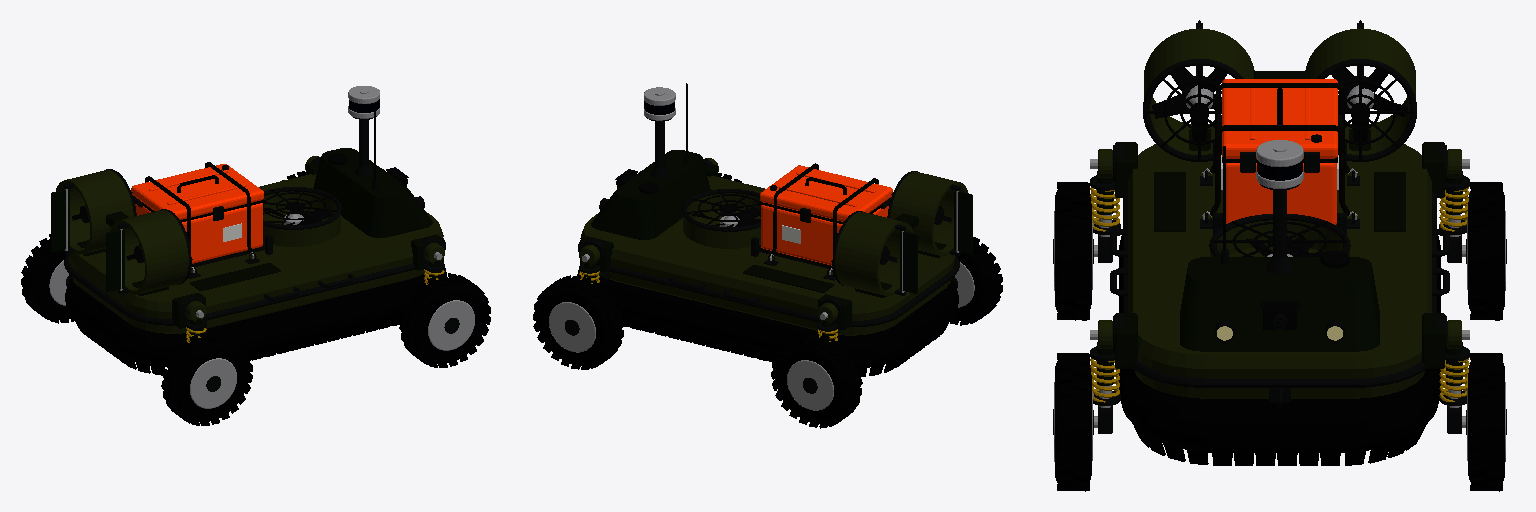
URDF robot description (hovercraft):
<?xml version="1.0"?>
<!-- GENERATED by gen_description.py from link_frames.json. Do not edit by hand. -->
<robot name="hovercraft">
  <link name="base_link"><inertial><origin xyz="0.0891683 0 -0.03" rpy="0 0 0"/><mass value="10.52"/><inertia ixx="0.372057" ixy="0" ixz="0" iyy="1.09583" iyz="0" izz="1.39776"/></inertial><visual><geometry><mesh filename="package://tidal_vehicle_description/models/hovercraft/meshes/hull.dae"/></geometry></visual><collision><origin xyz="0 0 -0.005" rpy="0 0 0"/><geometry><box size="1.15 0.66 0.15"/></geometry></collision></link>
  <link name="skirt"><inertial><origin xyz="0 0 0.0125" rpy="0 0 0"/><mass value="1.5"/><inertia ixx="0.0626281" ixy="0" ixz="0" iyy="0.181378" iyz="0" izz="0.24125"/></inertial><visual><geometry><mesh filename="package://tidal_vehicle_description/models/hovercraft/meshes/skirt.dae"/></geometry></visual><collision><origin xyz="0 0 0.0125" rpy="0 0 0"/><geometry><box size="1.2 0.7 0.105"/></geometry></collision></link>
  <link name="lift_fan"><inertial><origin xyz="0 0 0" rpy="0 0 0"/><mass value="0.8"/><inertia ixx="0.003705" ixy="0" ixz="0" iyy="0.003705" iyz="0" izz="0.00729"/></inertial><visual><geometry><mesh filename="package://tidal_vehicle_description/models/hovercraft/meshes/lift_fan.dae"/></geometry></visual><collision><origin xyz="0 0 0" rpy="0 0 0"/><geometry><cylinder radius="0.135" length="0.03"/></geometry></collision></link>
  <link name="thrust_fan_left"><inertial><origin xyz="0 0 0" rpy="0 0 0"/><mass value="0.5"/><inertia ixx="0.00275625" ixy="0" ixz="0" iyy="0.00141562" iyz="0" izz="0.00141562"/></inertial><visual><geometry><mesh filename="package://tidal_vehicle_description/models/hovercraft/meshes/thrust_fan_left.dae"/></geometry></visual><collision><origin xyz="0 0 0" rpy="0 1.5708 0"/><geometry><cylinder radius="0.105" length="0.03"/></geometry></collision></link>
  <link name="thrust_fan_right"><inertial><origin xyz="0 0 0" rpy="0 0 0"/><mass value="0.5"/><inertia ixx="0.00275625" ixy="0" ixz="0" iyy="0.00141562" iyz="0" izz="0.00141562"/></inertial><visual><geometry><mesh filename="package://tidal_vehicle_description/models/hovercraft/meshes/thrust_fan_right.dae"/></geometry></visual><collision><origin xyz="0 0 0" rpy="0 1.5708 0"/><geometry><cylinder radius="0.105" length="0.03"/></geometry></collision></link>
  <link name="rudder_left"><inertial><origin xyz="-0.0215 0 0" rpy="0 0 0"/><mass value="0.1"/><inertia ixx="0.000368033" ixy="0" ixz="0" iyy="0.000404908" iyz="0" izz="3.79417e-05"/></inertial><visual><geometry><mesh filename="package://tidal_vehicle_description/models/hovercraft/meshes/rudder_left.dae"/></geometry></visual><collision><origin xyz="-0.0215 0 0" rpy="0 0 0"/><geometry><box size="0.067 0.008 0.21"/></geometry></collision></link>
  <link name="rudder_right"><inertial><origin xyz="-0.0215 0 0" rpy="0 0 0"/><mass value="0.1"/><inertia ixx="0.000368033" ixy="0" ixz="0" iyy="0.000404908" iyz="0" izz="3.79417e-05"/></inertial><visual><geometry><mesh filename="package://tidal_vehicle_description/models/hovercraft/meshes/rudder_right.dae"/></geometry></visual><collision><origin xyz="-0.0215 0 0" rpy="0 0 0"/><geometry><box size="0.067 0.008 0.21"/></geometry></collision></link>
  <link name="wheel_leg_fl"><inertial><origin xyz="0 0 -0.0675" rpy="0 0 0"/><mass value="0.4"/><inertia ixx="0.000336933" ixy="0" ixz="0" iyy="0.000336933" iyz="0" izz="7.22e-05"/></inertial><visual><geometry><mesh filename="package://tidal_vehicle_description/models/hovercraft/meshes/wheel_leg_fl.dae"/></geometry></visual><collision><origin xyz="0 0 -0.0675" rpy="0 0 0"/><geometry><cylinder radius="0.019" length="0.09499999999999997"/></geometry></collision></link>
  <link name="wheel_leg_fr"><inertial><origin xyz="0 0 -0.0675" rpy="0 0 0"/><mass value="0.4"/><inertia ixx="0.000336933" ixy="0" ixz="0" iyy="0.000336933" iyz="0" izz="7.22e-05"/></inertial><visual><geometry><mesh filename="package://tidal_vehicle_description/models/hovercraft/meshes/wheel_leg_fr.dae"/></geometry></visual><collision><origin xyz="0 0 -0.0675" rpy="0 0 0"/><geometry><cylinder radius="0.019" length="0.09499999999999997"/></geometry></collision></link>
  <link name="wheel_leg_rl"><inertial><origin xyz="0 0 -0.0675" rpy="0 0 0"/><mass value="0.4"/><inertia ixx="0.000336933" ixy="0" ixz="0" iyy="0.000336933" iyz="0" izz="7.22e-05"/></inertial><visual><geometry><mesh filename="package://tidal_vehicle_description/models/hovercraft/meshes/wheel_leg_rl.dae"/></geometry></visual><collision><origin xyz="0 0 -0.0675" rpy="0 0 0"/><geometry><cylinder radius="0.019" length="0.09499999999999997"/></geometry></collision></link>
  <link name="wheel_leg_rr"><inertial><origin xyz="0 0 -0.0675" rpy="0 0 0"/><mass value="0.4"/><inertia ixx="0.000336933" ixy="0" ixz="0" iyy="0.000336933" iyz="0" izz="7.22e-05"/></inertial><visual><geometry><mesh filename="package://tidal_vehicle_description/models/hovercraft/meshes/wheel_leg_rr.dae"/></geometry></visual><collision><origin xyz="0 0 -0.0675" rpy="0 0 0"/><geometry><cylinder radius="0.019" length="0.09499999999999997"/></geometry></collision></link>
  <link name="wheel_shock_fl"><inertial><origin xyz="0 0 0.08" rpy="0 0 0"/><mass value="0.2"/><inertia ixx="0.000436467" ixy="0" ixz="0" iyy="0.000436467" iyz="0" izz="1.96e-05"/></inertial><visual><geometry><mesh filename="package://tidal_vehicle_description/models/hovercraft/meshes/wheel_shock_fl.dae"/></geometry></visual><collision><origin xyz="0 0 0.08" rpy="0 0 0"/><geometry><cylinder radius="0.014" length="0.16"/></geometry></collision></link>
  <link name="wheel_shock_fr"><inertial><origin xyz="0 0 0.08" rpy="0 0 0"/><mass value="0.2"/><inertia ixx="0.000436467" ixy="0" ixz="0" iyy="0.000436467" iyz="0" izz="1.96e-05"/></inertial><visual><geometry><mesh filename="package://tidal_vehicle_description/models/hovercraft/meshes/wheel_shock_fr.dae"/></geometry></visual><collision><origin xyz="0 0 0.08" rpy="0 0 0"/><geometry><cylinder radius="0.014" length="0.16"/></geometry></collision></link>
  <link name="wheel_shock_rl"><inertial><origin xyz="0 0 0.08" rpy="0 0 0"/><mass value="0.2"/><inertia ixx="0.000436467" ixy="0" ixz="0" iyy="0.000436467" iyz="0" izz="1.96e-05"/></inertial><visual><geometry><mesh filename="package://tidal_vehicle_description/models/hovercraft/meshes/wheel_shock_rl.dae"/></geometry></visual><collision><origin xyz="0 0 0.08" rpy="0 0 0"/><geometry><cylinder radius="0.014" length="0.16"/></geometry></collision></link>
  <link name="wheel_shock_rr"><inertial><origin xyz="0 0 0.08" rpy="0 0 0"/><mass value="0.2"/><inertia ixx="0.000436467" ixy="0" ixz="0" iyy="0.000436467" iyz="0" izz="1.96e-05"/></inertial><visual><geometry><mesh filename="package://tidal_vehicle_description/models/hovercraft/meshes/wheel_shock_rr.dae"/></geometry></visual><collision><origin xyz="0 0 0.08" rpy="0 0 0"/><geometry><cylinder radius="0.014" length="0.16"/></geometry></collision></link>
  <link name="wheel_fl"><inertial><origin xyz="0 0 0" rpy="0 0 0"/><mass value="0.9"/><inertia ixx="0.0055425" ixy="0" ixz="0" iyy="0.010125" iyz="0" izz="0.0055425"/></inertial><visual><geometry><mesh filename="package://tidal_vehicle_description/models/hovercraft/meshes/wheel_fl.dae"/></geometry></visual><collision><origin xyz="0 0 0" rpy="1.5708 0 0"/><geometry><cylinder radius="0.15" length="0.08"/></geometry></collision></link>
  <link name="wheel_fr"><inertial><origin xyz="0 0 0" rpy="0 0 0"/><mass value="0.9"/><inertia ixx="0.0055425" ixy="0" ixz="0" iyy="0.010125" iyz="0" izz="0.0055425"/></inertial><visual><geometry><mesh filename="package://tidal_vehicle_description/models/hovercraft/meshes/wheel_fr.dae"/></geometry></visual><collision><origin xyz="0 0 0" rpy="1.5708 0 0"/><geometry><cylinder radius="0.15" length="0.08"/></geometry></collision></link>
  <link name="wheel_rl"><inertial><origin xyz="0 0 0" rpy="0 0 0"/><mass value="0.9"/><inertia ixx="0.0055425" ixy="0" ixz="0" iyy="0.010125" iyz="0" izz="0.0055425"/></inertial><visual><geometry><mesh filename="package://tidal_vehicle_description/models/hovercraft/meshes/wheel_rl.dae"/></geometry></visual><collision><origin xyz="0 0 0" rpy="1.5708 0 0"/><geometry><cylinder radius="0.15" length="0.08"/></geometry></collision></link>
  <link name="wheel_rr"><inertial><origin xyz="0 0 0" rpy="0 0 0"/><mass value="0.9"/><inertia ixx="0.0055425" ixy="0" ixz="0" iyy="0.010125" iyz="0" izz="0.0055425"/></inertial><visual><geometry><mesh filename="package://tidal_vehicle_description/models/hovercraft/meshes/wheel_rr.dae"/></geometry></visual><collision><origin xyz="0 0 0" rpy="1.5708 0 0"/><geometry><cylinder radius="0.15" length="0.08"/></geometry></collision></link>
  <link name="payload_box"><inertial><origin xyz="0 0 0.1" rpy="0 0 0"/><mass value="4.0"/><inertia ixx="0.0341667" ixy="0" ixz="0" iyy="0.0541667" iyz="0" izz="0.0616667"/></inertial><visual><geometry><mesh filename="package://tidal_vehicle_description/models/hovercraft/meshes/payload_box.dae"/></geometry></visual><collision><origin xyz="0 0 0.1" rpy="0 0 0"/><geometry><box size="0.35 0.25 0.2"/></geometry></collision></link>
  <link name="lidar_link"><inertial><origin xyz="0 0 0" rpy="0 0 0"/><mass value="0.83"/><inertia ixx="0.00090592" ixy="0" ixz="0" iyy="0.00090592" iyz="0" izz="0.00110068"/></inertial><visual><geometry><mesh filename="package://tidal_vehicle_description/models/hovercraft/meshes/lidar.dae"/></geometry></visual><collision><origin xyz="0 0 0" rpy="0 0 0"/><geometry><cylinder radius="0.0515" length="0.0717"/></geometry></collision></link>
  <link name="camera_link"><inertial><origin xyz="-0.037 0 0" rpy="0 0 0"/><mass value="0.15"/><inertia ixx="0.000101562" ixy="0" ixz="0" iyy="6.25e-05" iyz="0" izz="0.000101562"/></inertial><visual><geometry><mesh filename="package://tidal_vehicle_description/models/hovercraft/meshes/camera.dae"/></geometry></visual><collision><origin xyz="-0.037 0 0" rpy="0 0 0"/><geometry><box size="0.05 0.075 0.05"/></geometry></collision></link>
  <link name="imu_link"/>
  <joint name="imu_joint" type="fixed"><parent link="base_link"/><child link="imu_link"/><origin xyz="0 0 0" rpy="0 0 0"/></joint>
  <joint name="skirt_joint" type="fixed"><parent link="base_link"/><child link="skirt"/><origin xyz="0 0 -0.11" rpy="0 0 0"/></joint>
  <joint name="lift_fan_joint" type="continuous"><parent link="base_link"/><child link="lift_fan"/><origin xyz="0.14 0 0.09" rpy="0 0 0"/><axis xyz="0 0 1"/></joint>
  <joint name="thrust_fan_left_joint" type="continuous"><parent link="base_link"/><child link="thrust_fan_left"/><origin xyz="-0.475 0.175 0.2" rpy="0 0 0"/><axis xyz="1 0 0"/></joint>
  <joint name="thrust_fan_right_joint" type="continuous"><parent link="base_link"/><child link="thrust_fan_right"/><origin xyz="-0.475 -0.175 0.2" rpy="0 0 0"/><axis xyz="1 0 0"/></joint>
  <joint name="rudder_left_joint" type="revolute"><parent link="base_link"/><child link="rudder_left"/><origin xyz="-0.6 0.175 0.2" rpy="0 0 0"/><axis xyz="0 0 1"/><limit lower="-0.5236" upper="0.5236" effort="100" velocity="2"/></joint>
  <joint name="rudder_right_joint" type="revolute"><parent link="base_link"/><child link="rudder_right"/><origin xyz="-0.6 -0.175 0.2" rpy="0 0 0"/><axis xyz="0 0 1"/><limit lower="-0.5236" upper="0.5236" effort="100" velocity="2"/></joint>
  <joint name="wheel_leg_fl_joint" type="revolute"><parent link="base_link"/><child link="wheel_leg_fl"/><origin xyz="0.44 0.38 0.06" rpy="0 0 0"/><axis xyz="0 1 0"/><limit lower="0.0" upper="1.5708" effort="100" velocity="2"/></joint>
  <joint name="wheel_leg_fr_joint" type="revolute"><parent link="base_link"/><child link="wheel_leg_fr"/><origin xyz="0.44 -0.38 0.06" rpy="0 0 0"/><axis xyz="0 1 0"/><limit lower="0.0" upper="1.5708" effort="100" velocity="2"/></joint>
  <joint name="wheel_leg_rl_joint" type="revolute"><parent link="base_link"/><child link="wheel_leg_rl"/><origin xyz="-0.44 0.38 0.06" rpy="0 0 0"/><axis xyz="0 -1 0"/><limit lower="0.0" upper="1.5708" effort="100" velocity="2"/></joint>
  <joint name="wheel_leg_rr_joint" type="revolute"><parent link="base_link"/><child link="wheel_leg_rr"/><origin xyz="-0.44 -0.38 0.06" rpy="0 0 0"/><axis xyz="0 -1 0"/><limit lower="0.0" upper="1.5708" effort="100" velocity="2"/></joint>
  <joint name="wheel_shock_fl_joint" type="prismatic"><parent link="wheel_leg_fl"/><child link="wheel_shock_fl"/><origin xyz="0 0 -0.21" rpy="0 0 0"/><axis xyz="0 0 1"/><limit lower="-0.03" upper="0.05" effort="100" velocity="2"/></joint>
  <joint name="wheel_shock_fr_joint" type="prismatic"><parent link="wheel_leg_fr"/><child link="wheel_shock_fr"/><origin xyz="0 0 -0.21" rpy="0 0 0"/><axis xyz="0 0 1"/><limit lower="-0.03" upper="0.05" effort="100" velocity="2"/></joint>
  <joint name="wheel_shock_rl_joint" type="prismatic"><parent link="wheel_leg_rl"/><child link="wheel_shock_rl"/><origin xyz="0 0 -0.21" rpy="0 0 0"/><axis xyz="0 0 1"/><limit lower="-0.03" upper="0.05" effort="100" velocity="2"/></joint>
  <joint name="wheel_shock_rr_joint" type="prismatic"><parent link="wheel_leg_rr"/><child link="wheel_shock_rr"/><origin xyz="0 0 -0.21" rpy="0 0 0"/><axis xyz="0 0 1"/><limit lower="-0.03" upper="0.05" effort="100" velocity="2"/></joint>
  <joint name="wheel_fl_joint" type="continuous"><parent link="wheel_shock_fl"/><child link="wheel_fl"/><origin xyz="0 0.07 0" rpy="0 0 0"/><axis xyz="0 1 0"/></joint>
  <joint name="wheel_fr_joint" type="continuous"><parent link="wheel_shock_fr"/><child link="wheel_fr"/><origin xyz="0 -0.07 0" rpy="0 0 0"/><axis xyz="0 1 0"/></joint>
  <joint name="wheel_rl_joint" type="continuous"><parent link="wheel_shock_rl"/><child link="wheel_rl"/><origin xyz="0 0.07 0" rpy="0 0 0"/><axis xyz="0 1 0"/></joint>
  <joint name="wheel_rr_joint" type="continuous"><parent link="wheel_shock_rr"/><child link="wheel_rr"/><origin xyz="0 -0.07 0" rpy="0 0 0"/><axis xyz="0 1 0"/></joint>
  <joint name="payload_box_joint" type="fixed"><parent link="base_link"/><child link="payload_box"/><origin xyz="-0.215 0 0.09" rpy="0 0 0"/></joint>
  <joint name="lidar_joint" type="fixed"><parent link="base_link"/><child link="lidar_link"/><origin xyz="0.4 0 0.45" rpy="0 0 0"/></joint>
  <joint name="camera_joint" type="fixed"><parent link="base_link"/><child link="camera_link"/><origin xyz="0.552 0 0.14" rpy="0 0 0"/></joint>
</robot>

--- Render facts (derived) ---
Views: 3 orthographic renders of the robot side by side, from view 1: azimuth 30°, elevation 25°; view 2: azimuth 150°, elevation 25°; view 3: azimuth 270°, elevation 25°.
Robot: hovercraft — 23 links, 22 joints (6 revolute, 7 continuous, 4 prismatic, 5 fixed); root link base_link; default pose: every joint at zero.
Links seen in each view (by area): view 1: base_link, skirt, payload_box, wheel_rr, wheel_fr, wheel_rl, rudder_left, rudder_right, lidar_link, wheel_leg_rr, wheel_leg_fr; view 2: base_link, skirt, payload_box, wheel_fl, wheel_rl, wheel_rr, rudder_right, rudder_left, lidar_link, wheel_leg_fl, wheel_leg_rl; view 3: base_link, skirt, payload_box, wheel_rl, wheel_fl, wheel_rr, wheel_fr, lidar_link, wheel_leg_rl, wheel_leg_fl, wheel_leg_rr, wheel_leg_fr (+7 smaller).
Link boxes in pixels (x1,y1,x2,y2): base_link: (56,109,445,333); skirt: (65,268,446,375); payload_box: (131,164,264,263); wheel_rr: (161,331,252,425); wheel_fr: (399,273,490,367); wheel_rl: (21,234,74,323); rudder_left: (51,189,69,251); rudder_right: (106,229,124,291); lidar_link: (348,86,379,118); wheel_leg_rr: (186,301,206,342); wheel_leg_fr: (424,243,444,284); base_link: (578,83,967,335); skirt: (577,270,958,377); payload_box: (759,165,892,265); wheel_fl: (533,275,624,369); wheel_rl: (771,333,862,428); wheel_rr: (950,237,1002,325); rudder_right: (954,190,972,253); rudder_left: (900,230,917,293); lidar_link: (644,87,675,120); wheel_leg_fl: (579,245,599,283); wheel_leg_rl: (817,303,837,341); base_link: (1090,23,1469,406); skirt: (1119,235,1440,465); payload_box: (1217,79,1342,224); wheel_rl: (1466,182,1506,320); wheel_fl: (1466,353,1506,491); wheel_rr: (1053,182,1093,320); wheel_fr: (1053,353,1093,491); lidar_link: (1256,140,1303,188); wheel_leg_rl: (1439,149,1469,231); wheel_leg_fl: (1439,320,1469,401); wheel_leg_rr: (1090,149,1119,231); wheel_leg_fr: (1090,320,1119,402).
Bounding box of the posed robot: 1.26 × 0.99 × 0.7909 m (x, y, z).
22 mesh visuals loaded from 22 distinct referenced files (22 Collada DAE).
